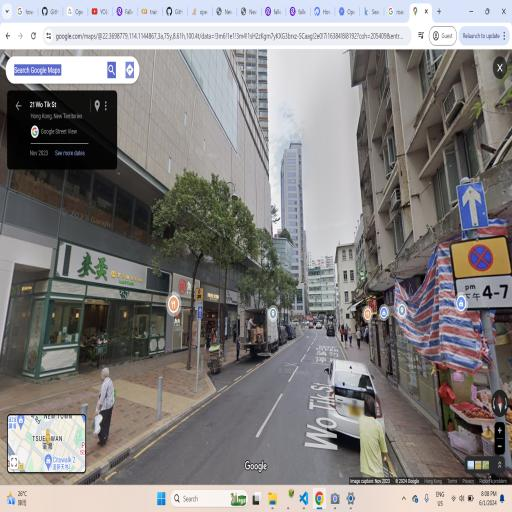Roads: (119, 317, 403, 476)
Trees: (148, 150, 232, 380)
